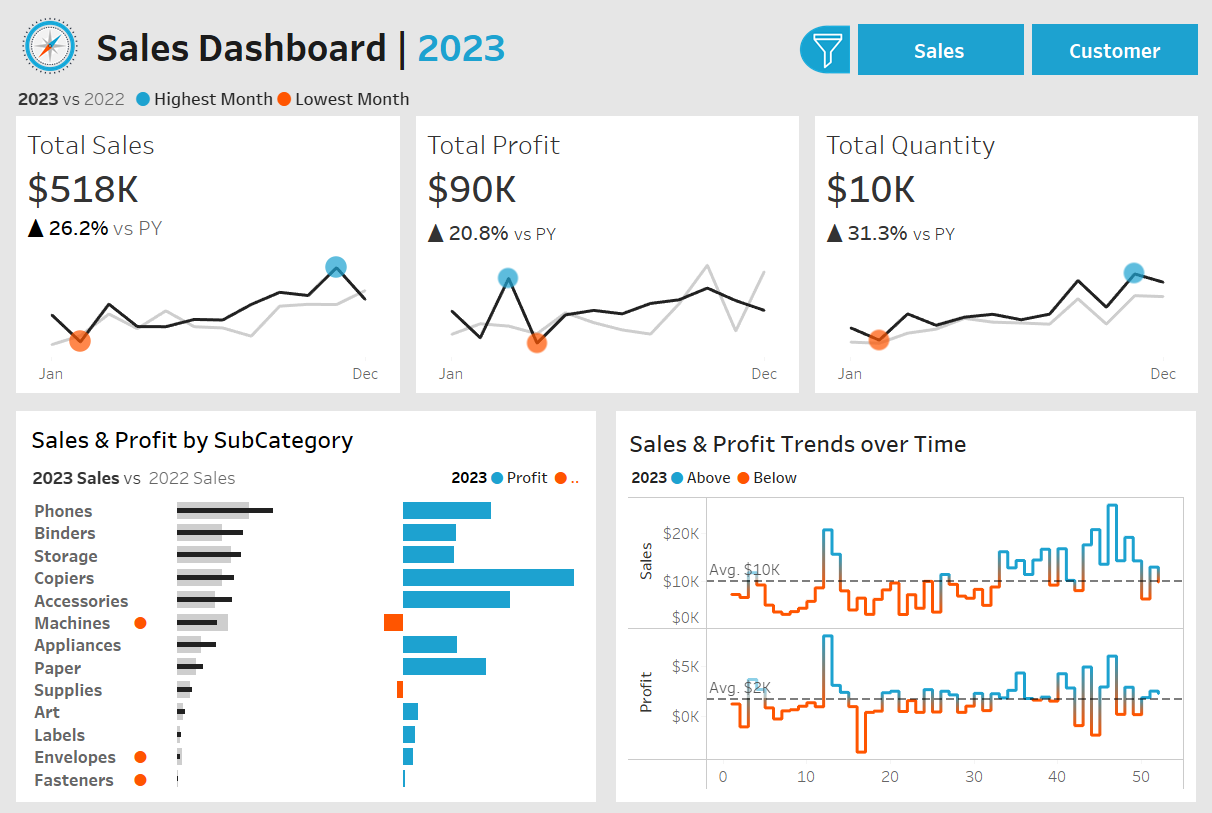

This screenshot's page, from the dashboard's own definition file:
{"tool":"tableau","page":{"name":"Sales Dashboard","canvas":[1200,800],"ordinal":1},"visuals":[{"type":"image","param":"Image/Icon - Logo.png","box":[5,0,77.5,67]},{"type":"text","box":[82.5,0,762,67]},{"type":"dashboard-object","box":[848,8,174,59]},{"type":"dashboard-object","box":[1022,8,174,59]},{"type":"blank","box":[974,10,215,32]},{"type":"dashboard-object","box":[785,12,67,51]},{"type":"text","box":[974,42,215,40]},{"type":"worksheet","title":"Legend KPI","mark":"Automatic","box":[0,67,1200,37]},{"type":"parameter","param":"[Parameters].[Parameter 1]","box":[974,82,215,72]},{"type":"worksheet","title":"KPI Sales","mark":"Automatic","rows":["Calculation_1071575298833498117"],"cols":["Order Date"],"box":[2,104,400,285]},{"type":"worksheet","title":"KPI Profit","mark":"Line","rows":["Min/Max Sales (copy)_1150388292511186951"],"cols":["Order Date"],"box":[402,104,399,285]},{"type":"worksheet","title":"KPI Quantity","mark":"Automatic","rows":["Min/Max Profit (copy)_1150388292515454989"],"cols":["Order Date"],"box":[801,104,399,285]},{"type":"blank","box":[974,154,215,57]},{"type":"text","box":[974,211,215,41]},{"type":"filter","title":"KPI Sales","param":"[federated.0xkjjtl09v1egp16gh0t11nqntk3].[none:Category:nk]","box":[974,252,215,61]},{"type":"filter","title":"KPI Sales","param":"[federated.0xkjjtl09v1egp16gh0t11nqntk3].[none:Sub-Category:nk]","box":[974,313,215,61]},{"type":"blank","box":[974,374,215,67]},{"type":"text","box":[18,407,564,40]},{"type":"text","box":[618,407,564,47]},{"type":"text","box":[974,441,215,33]},{"type":"worksheet","title":"Legend Subcategory","mark":"Automatic","box":[18,447,420,36]},{"type":"text","box":[438,447,144,36]},{"type":"text","box":[618,454,564,27]},{"type":"filter","title":"KPI Sales","param":"[federated.0xkjjtl09v1egp16gh0t11nqntk3].[none:Region:nk]","box":[974,474,215,61]},{"type":"worksheet","title":"Weekly Trends","mark":"Automatic","rows":["Calculation_1071575298828517376","Calculation_1150388292508708866"],"cols":["Order Date"],"box":[618,481,564,301]},{"type":"worksheet","title":"Subcategory Comparison","mark":"Bar","rows":["Sub-Category","Calculation_1150388292519985167"],"cols":["Current Year Sales (copy)_1071575298828972034","Calculation_1071575298828517376","Calculation_1150388292508708866"],"box":[18,483,564,299]},{"type":"filter","title":"KPI Sales","param":"[federated.0xkjjtl09v1egp16gh0t11nqntk3].[none:State:nk]","box":[974,535,215,61]},{"type":"filter","title":"KPI Sales","param":"[federated.0xkjjtl09v1egp16gh0t11nqntk3].[none:City:nk]","box":[974,596,215,61]}]}

Visuals, with their boxes in screenshot pixels (x1, y1, x2, y2), scaled from the page's 1200x800 canvas onto the 1212x813 screenshot:
image: l=5, t=0, r=83, b=68
text: l=83, t=0, r=853, b=68
dashboard-object: l=856, t=8, r=1032, b=68
dashboard-object: l=1032, t=8, r=1208, b=68
blank: l=984, t=10, r=1201, b=43
dashboard-object: l=793, t=12, r=861, b=64
text: l=984, t=43, r=1201, b=83
"Legend KPI" worksheet: l=0, t=68, r=1211, b=106
parameter: l=984, t=83, r=1201, b=157
"KPI Sales" worksheet: l=2, t=106, r=406, b=395
"KPI Profit" worksheet (Line marks): l=406, t=106, r=809, b=395
"KPI Quantity" worksheet: l=809, t=106, r=1211, b=395
blank: l=984, t=157, r=1201, b=214
text: l=984, t=214, r=1201, b=256
"KPI Sales" filter: l=984, t=256, r=1201, b=318
"KPI Sales" filter: l=984, t=318, r=1201, b=380
blank: l=984, t=380, r=1201, b=448
text: l=18, t=414, r=588, b=454
text: l=624, t=414, r=1194, b=461
text: l=984, t=448, r=1201, b=482
"Legend Subcategory" worksheet: l=18, t=454, r=442, b=491
text: l=442, t=454, r=588, b=491
text: l=624, t=461, r=1194, b=489
"KPI Sales" filter: l=984, t=482, r=1201, b=544
"Weekly Trends" worksheet: l=624, t=489, r=1194, b=795
"Subcategory Comparison" worksheet (Bar marks): l=18, t=491, r=588, b=795
"KPI Sales" filter: l=984, t=544, r=1201, b=606
"KPI Sales" filter: l=984, t=606, r=1201, b=668
